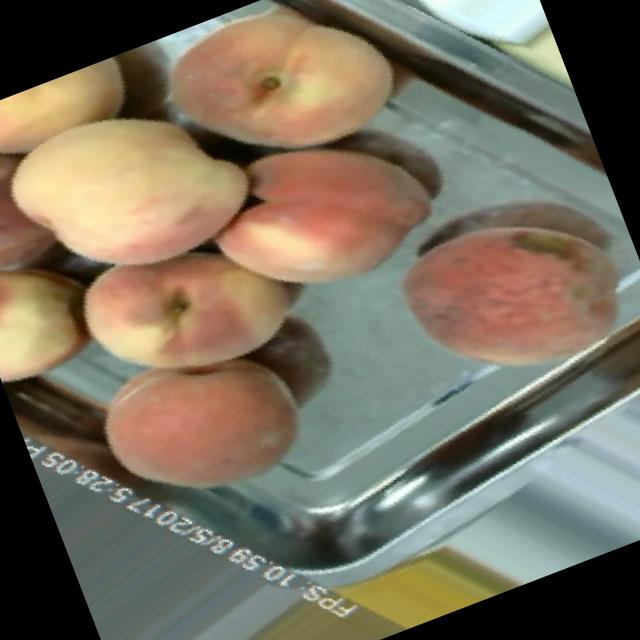Fruit: (358, 151, 640, 444), (168, 77, 474, 345), (0, 60, 287, 326), (57, 298, 346, 556), (41, 187, 332, 439), (127, 0, 438, 225), (264, 462, 559, 640), (108, 547, 417, 640), (0, 215, 137, 417), (0, 46, 160, 189)
